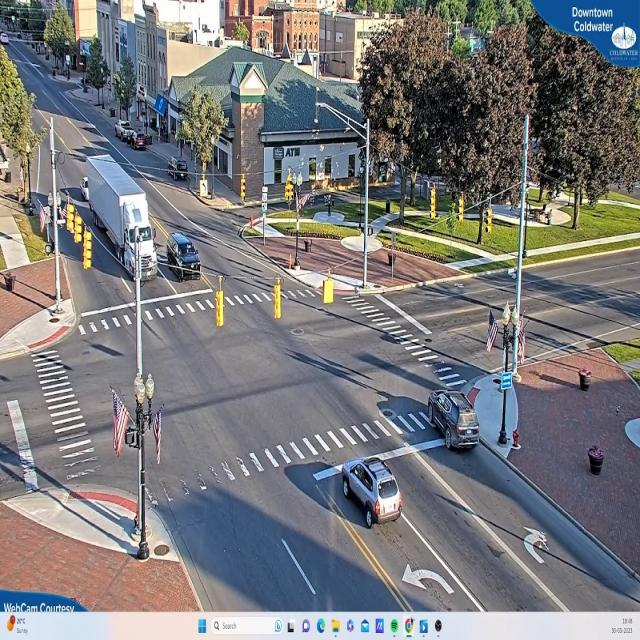car: (341, 458, 403, 527), (428, 388, 482, 452), (168, 157, 190, 179), (132, 134, 149, 150)
truck: (84, 148, 158, 285)
